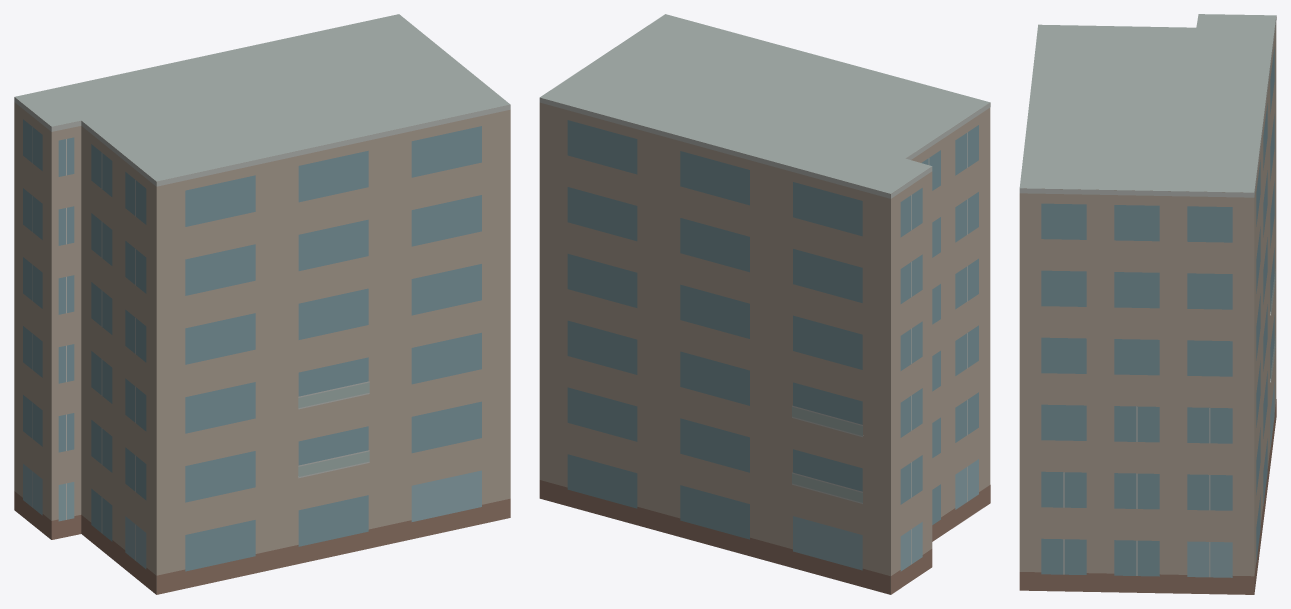
The model's file is survey-upis-32766005.glb.
The picture shows the model from 3 angles, left to right: view 1: azimuth 30°, elevation 25°; view 2: azimuth 150°, elevation 25°; view 3: azimuth 270°, elevation 25°; orthographic projection. The views are drawn at different scales.
Parts seen in each view (by area): view 1: survey-upis-32766005.tmp; view 2: survey-upis-32766005.tmp; view 3: survey-upis-32766005.tmp.
Boxes of the visible parts, x1,y1,x2,y2 form: survey-upis-32766005.tmp: [14, 14, 510, 594]; survey-upis-32766005.tmp: [539, 14, 990, 594]; survey-upis-32766005.tmp: [1019, 14, 1276, 594].
Bounding box in the file's own units: 18.68 × 19.6 × 11.35.
